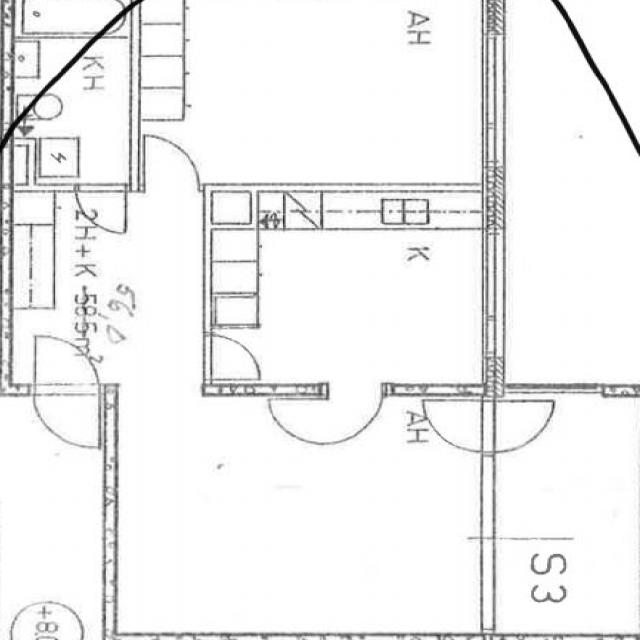door: (35, 384, 100, 452), (35, 329, 100, 395), (422, 400, 495, 451), (482, 400, 554, 451), (327, 384, 386, 446), (144, 136, 198, 192), (203, 335, 263, 380), (76, 184, 126, 235)
